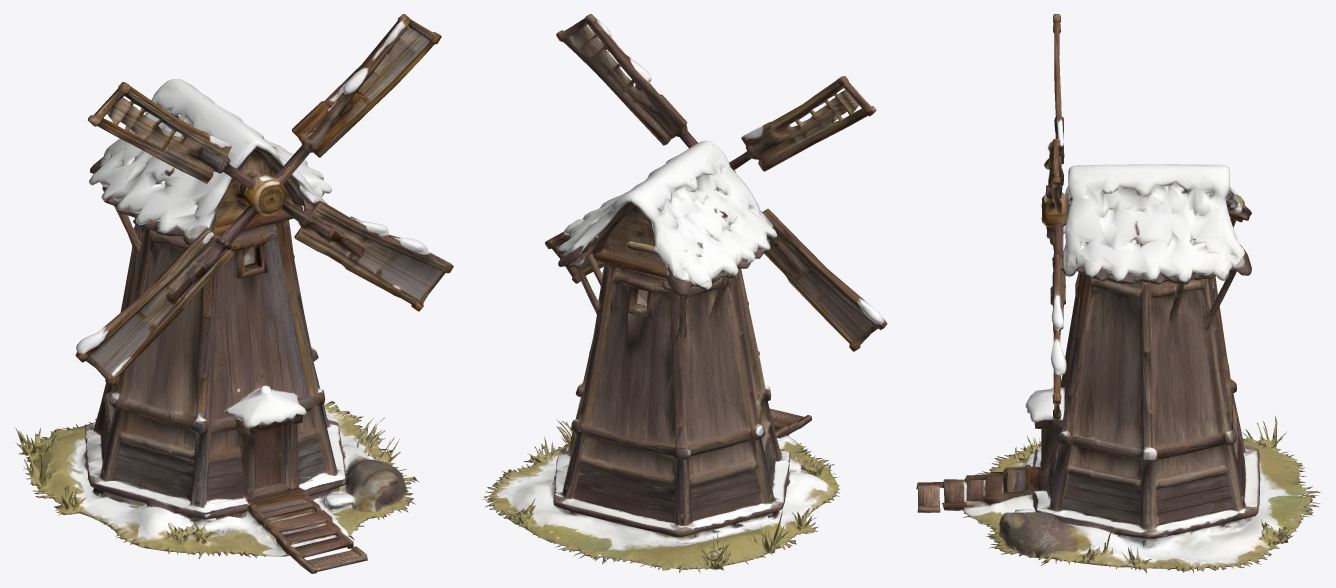
File: mill.glb
The picture shows the model from 3 angles, left to right: view 1: azimuth 30°, elevation 25°; view 2: azimuth 150°, elevation 25°; view 3: azimuth 270°, elevation 25°; orthographic projection. The views are drawn at different scales.
Parts seen in each view (by area): view 1: Mesh_0; view 2: Mesh_0; view 3: Mesh_0.
Boxes of the visible parts, <box> form: Mesh_0: <box>15,14,453,573</box>; Mesh_0: <box>482,14,887,573</box>; Mesh_0: <box>916,14,1320,573</box>.
Size of the model in its own units: 1.61 by 1.9 by 1.64.
Materials: 1 (1 with a texture image).
